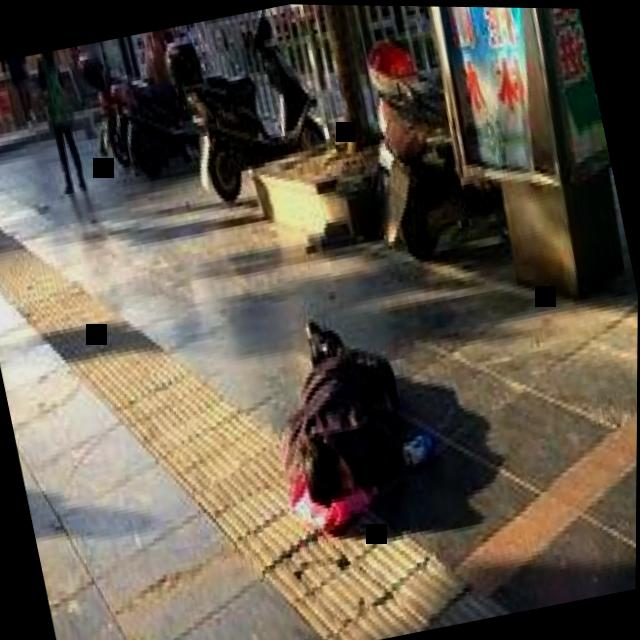Fall-Detected: (235, 265, 461, 543)
